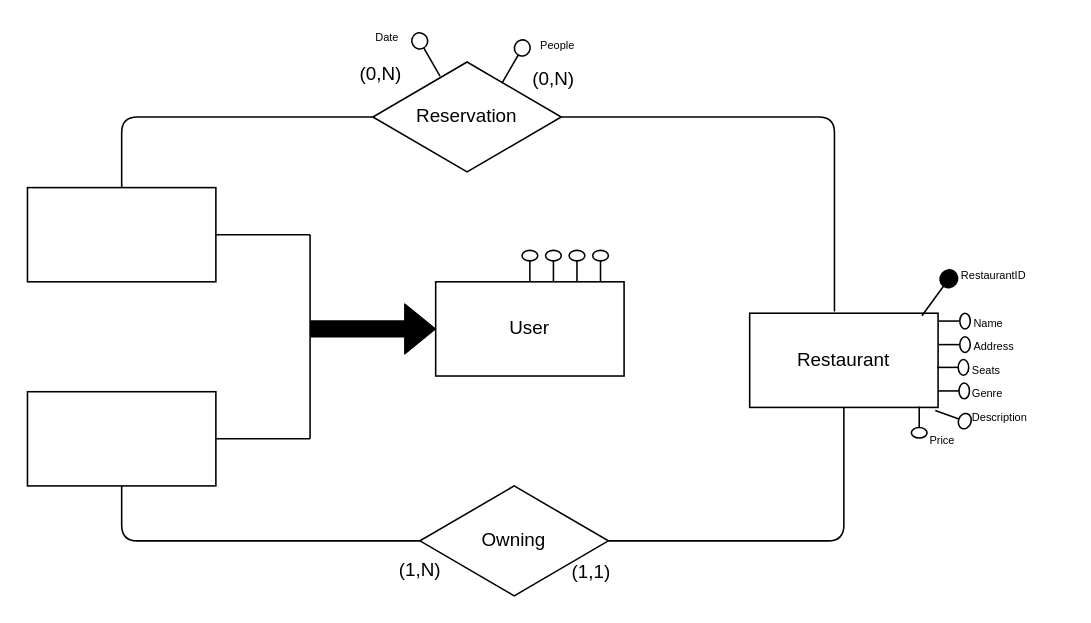
This 1091x623 diagram has some shape labels left out. Each missing label, with the centre of its shape:
"Customer" belongs at [121,234].
"Restaurateur" belongs at [121,438].
